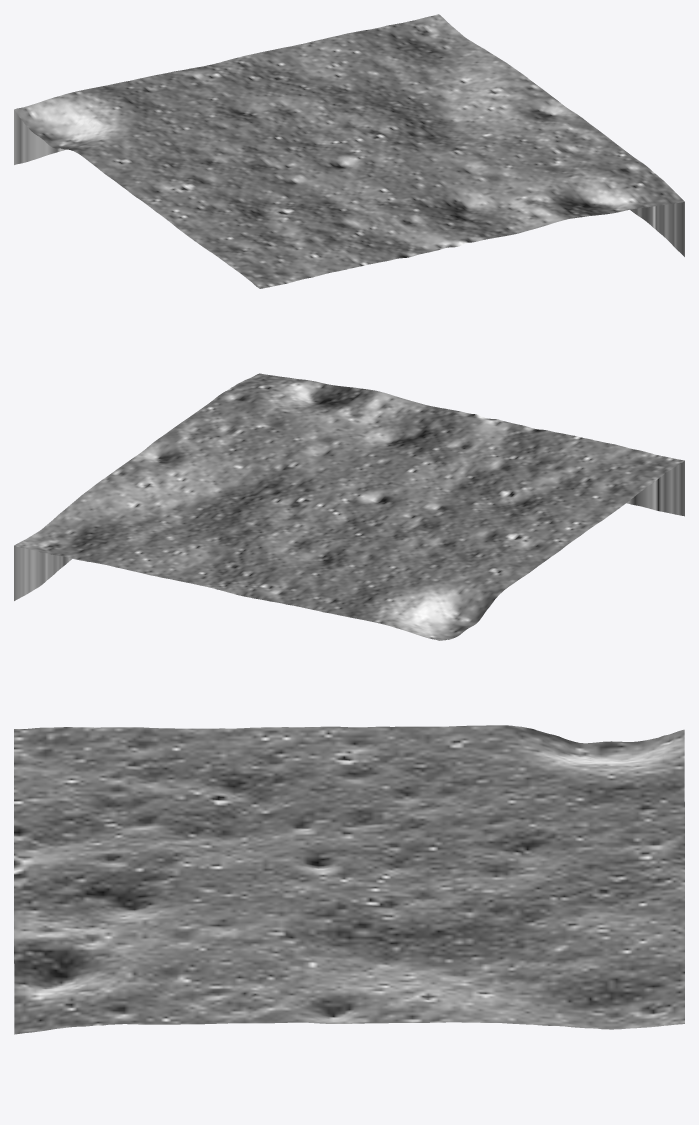
The picture shows the model from 3 angles, top to bottom: view 1: azimuth 30°, elevation 25°; view 2: azimuth 150°, elevation 25°; view 3: azimuth 270°, elevation 25°; orthographic projection. The views are drawn at different scales.
Bounding box in the file's own units: 638 × 108 × 639.
1 material, 1 textured.
